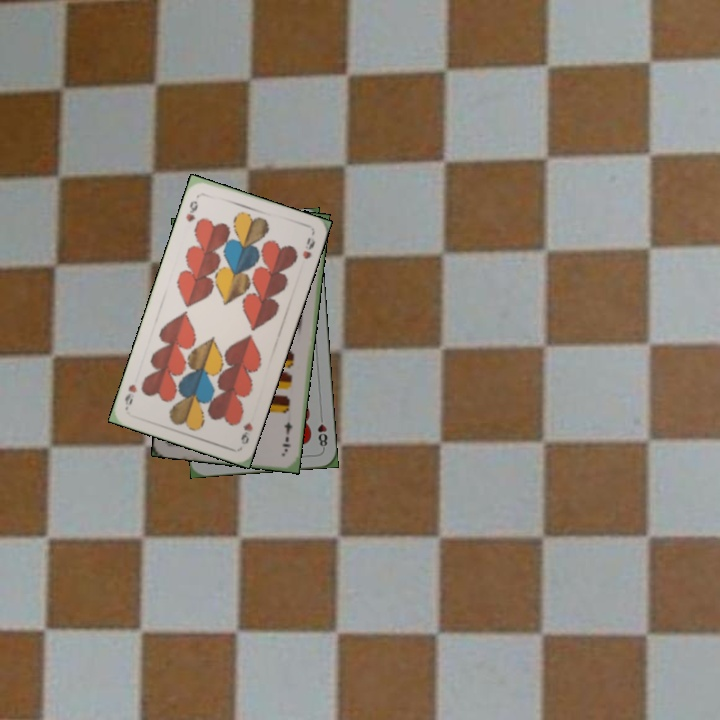E7: (279, 418, 295, 455)
H8: (314, 411, 330, 452)
H9: (236, 417, 255, 447), (182, 196, 200, 224)
